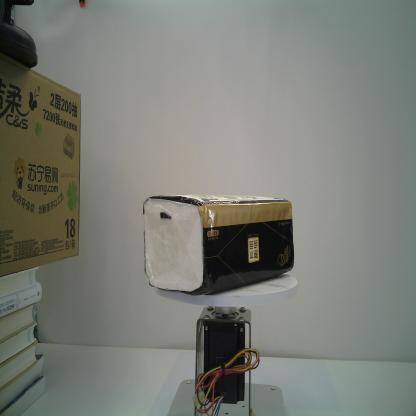Tissue: (143, 193, 294, 296)
